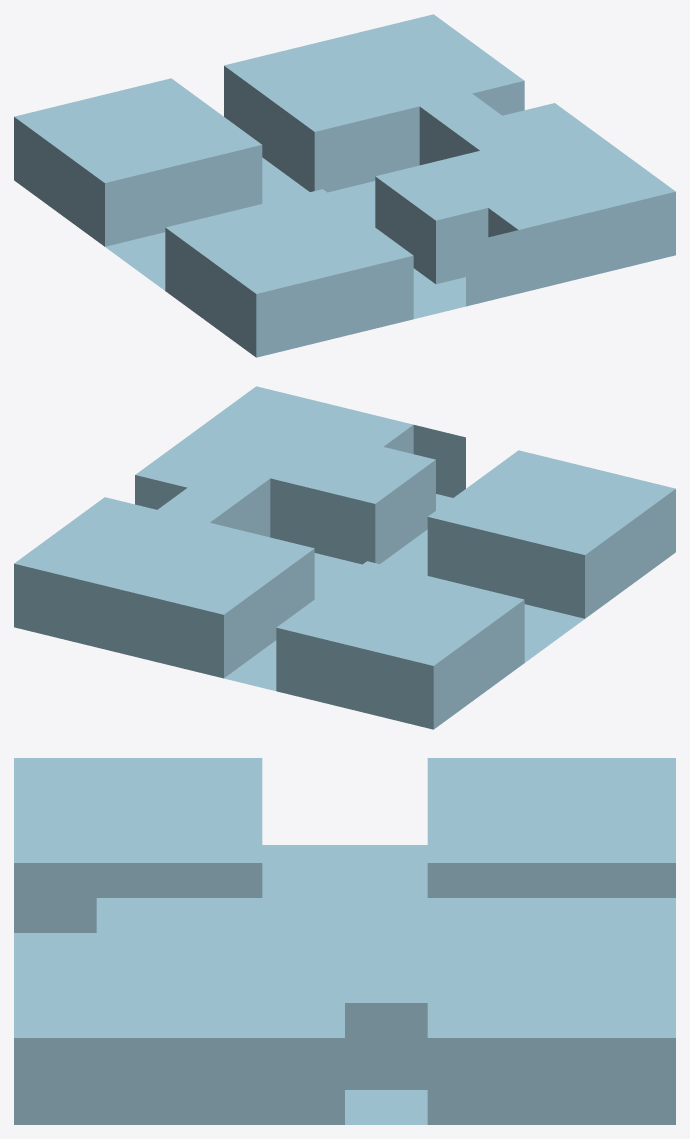
Rendered from F1Retry.glb.
3 renders of one model, top to bottom at view 1: azimuth 30°, elevation 25°; view 2: azimuth 150°, elevation 25°; view 3: azimuth 270°, elevation 25°, orthographic. The views are drawn at different scales.
Visible parts, largest first — view 1: F1; view 2: F1; view 3: F1.
Boxes of the visible parts, x1,y1,x2,y2 form: F1: (14,14,675,357); F1: (14,386,675,729); F1: (14,758,675,1124).
Size of the model in its own units: 20 by 2.9 by 20.
